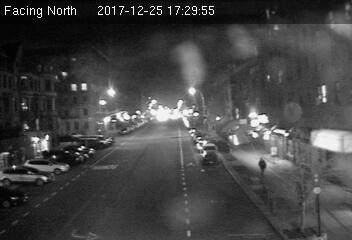car: (200, 149, 221, 164)
pedestrian: (255, 157, 267, 179)
